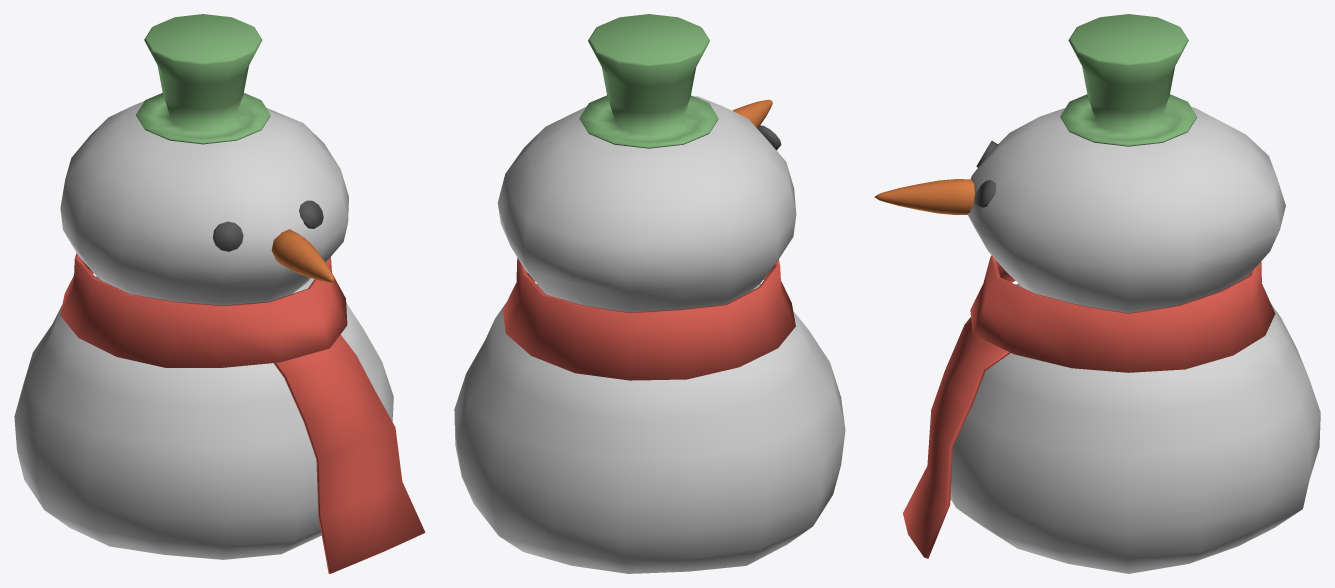
Rendered from snowman_small.fbx.
The picture shows the model from 3 angles, left to right: view 1: azimuth 30°, elevation 25°; view 2: azimuth 150°, elevation 25°; view 3: azimuth 270°, elevation 25°; orthographic projection. The views are drawn at different scales.
Parts seen in each view (by area): view 1: Cylinder.001, Sphere.001, Cylinder.005, Cylinder, Cylinder.003, Cylinder.004; view 2: Cylinder.001, Sphere.001, Cylinder.005, Cylinder; view 3: Cylinder.001, Sphere.001, Cylinder.005, Cylinder.
Part boxes in pixels (left/top/right/bottom): Cylinder.001: left=14, top=101, right=393, bottom=559; Sphere.001: left=60, top=253, right=425, bottom=573; Cylinder.005: left=136, top=14, right=270, bottom=144; Cylinder: left=271, top=229, right=334, bottom=282; Cylinder.003: left=212, top=221, right=243, bottom=251; Cylinder.004: left=299, top=200, right=323, bottom=228; Cylinder.001: left=454, top=96, right=845, bottom=573; Sphere.001: left=503, top=258, right=795, bottom=380; Cylinder.005: left=579, top=14, right=718, bottom=148; Cylinder: left=732, top=99, right=772, bottom=127; Cylinder.001: left=950, top=107, right=1320, bottom=573; Sphere.001: left=903, top=255, right=1275, bottom=558; Cylinder.005: left=1060, top=14, right=1196, bottom=146; Cylinder: left=874, top=179, right=974, bottom=215.
Bounding box in the file's own units: 159 × 210 × 179.
